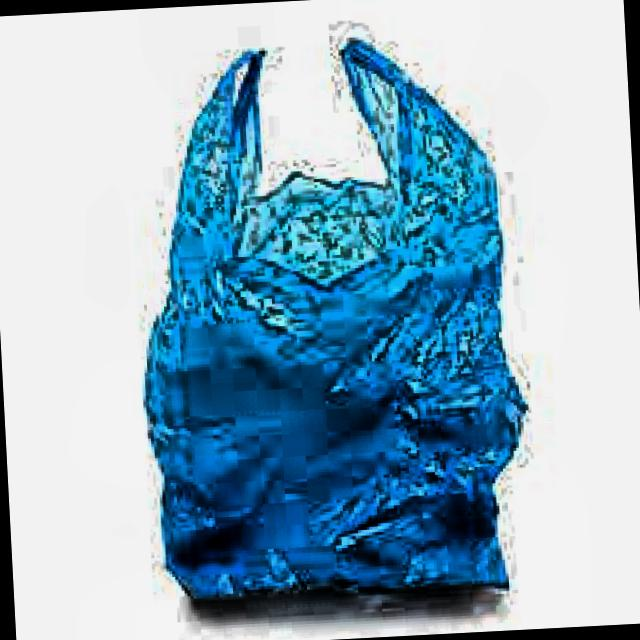plastic bag: (147, 42, 525, 597)
